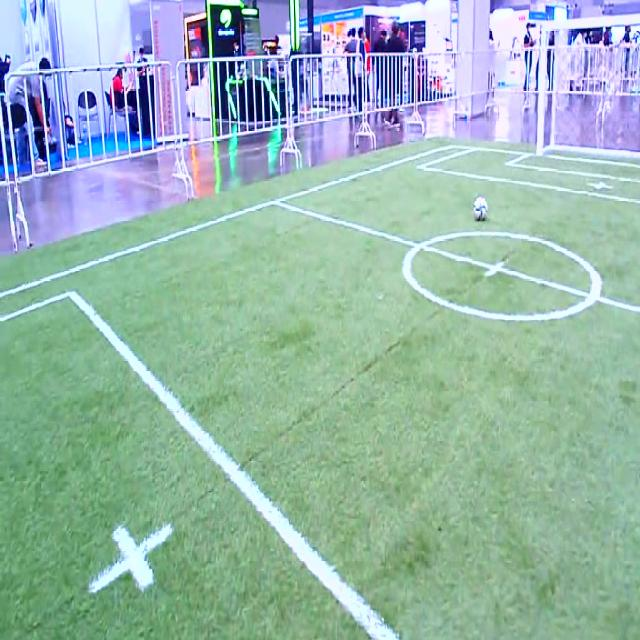ball: (473, 196, 488, 222)
